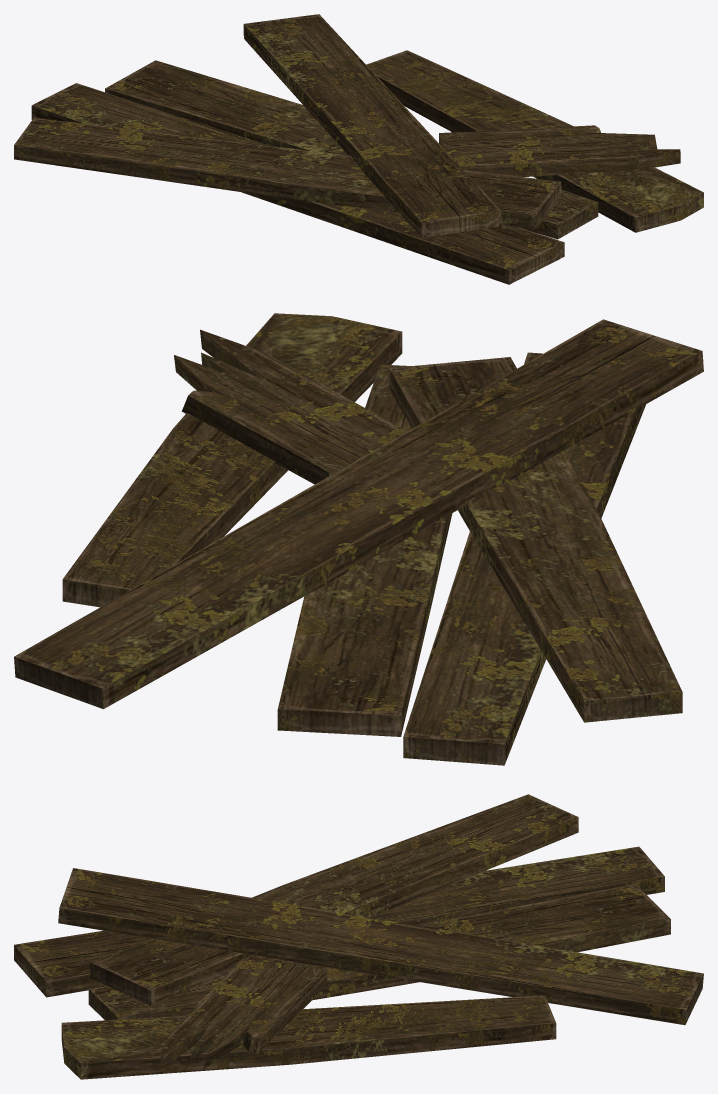
Rendered from Boards_02.fbx.
3 renders of one model, top to bottom at view 1: azimuth 30°, elevation 25°; view 2: azimuth 150°, elevation 25°; view 3: azimuth 270°, elevation 25°, orthographic. The views are drawn at different scales.
Parts seen in each view (by area): view 1: Boards_02; view 2: Boards_02; view 3: Boards_02.
Part boxes in pixels (x1,y1,x2,y2): Boards_02: (14,14,703,284); Boards_02: (14,313,703,765); Boards_02: (14,794,703,1079).
Size of the model in its own units: 3.41 by 0.3763 by 3.8.
